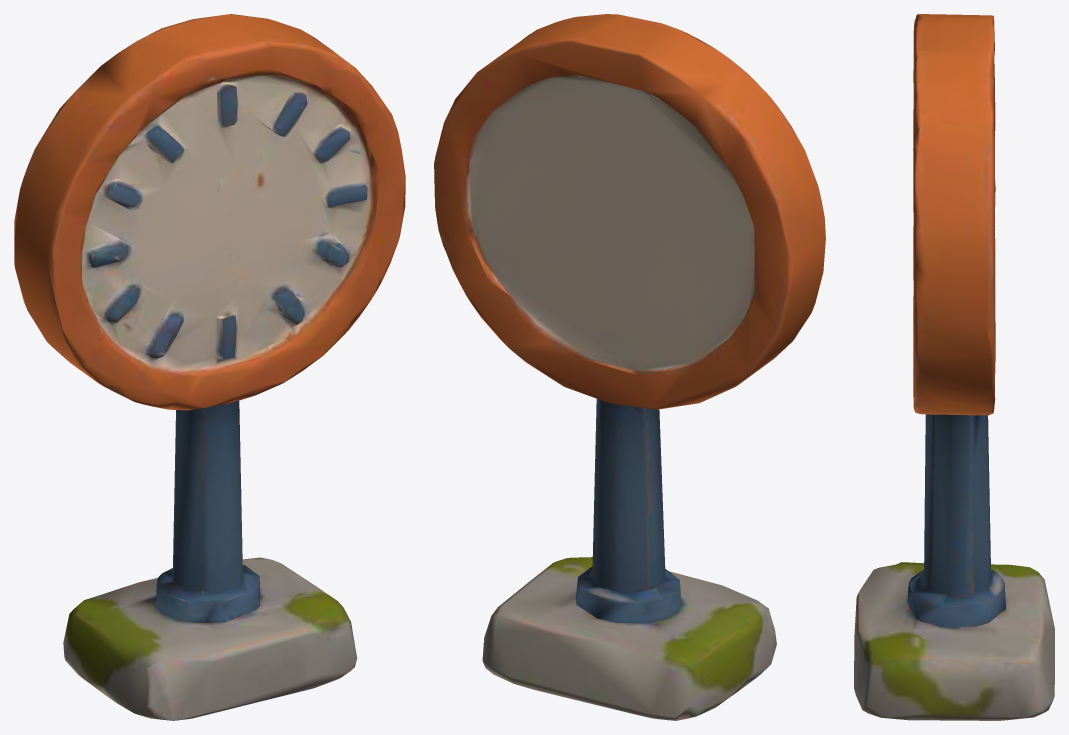
Rendered from clock-face.lod.glb.
3 views of the same model, side by side, from view 1: azimuth 30°, elevation 25°; view 2: azimuth 150°, elevation 25°; view 3: azimuth 270°, elevation 25° (orthographic).
Visible parts, largest first — view 1: textured_mesh.obj; view 2: textured_mesh.obj; view 3: textured_mesh.obj.
Part boxes in pixels (x1,y1,x2,y2): textured_mesh.obj: (14,14,405,720); textured_mesh.obj: (434,14,825,720); textured_mesh.obj: (854,14,1054,720).
Bounding box in the file's own units: 0.5857 × 0.9961 × 0.2839.
Materials: 1 (1 with a texture image).
